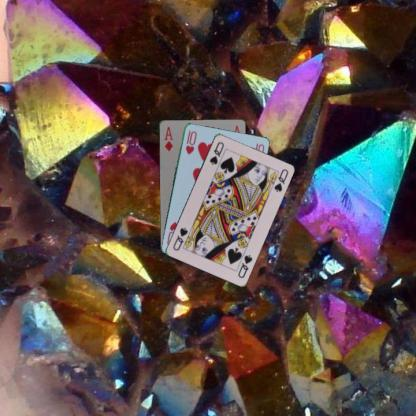10h: (182, 128, 198, 155)
Ad: (161, 124, 175, 152)
Qs: (235, 252, 254, 279), (207, 138, 225, 166)
